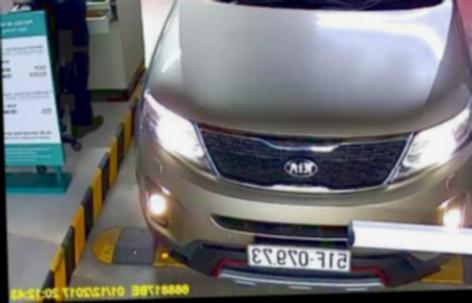License_Plate: (247, 244, 355, 271)
